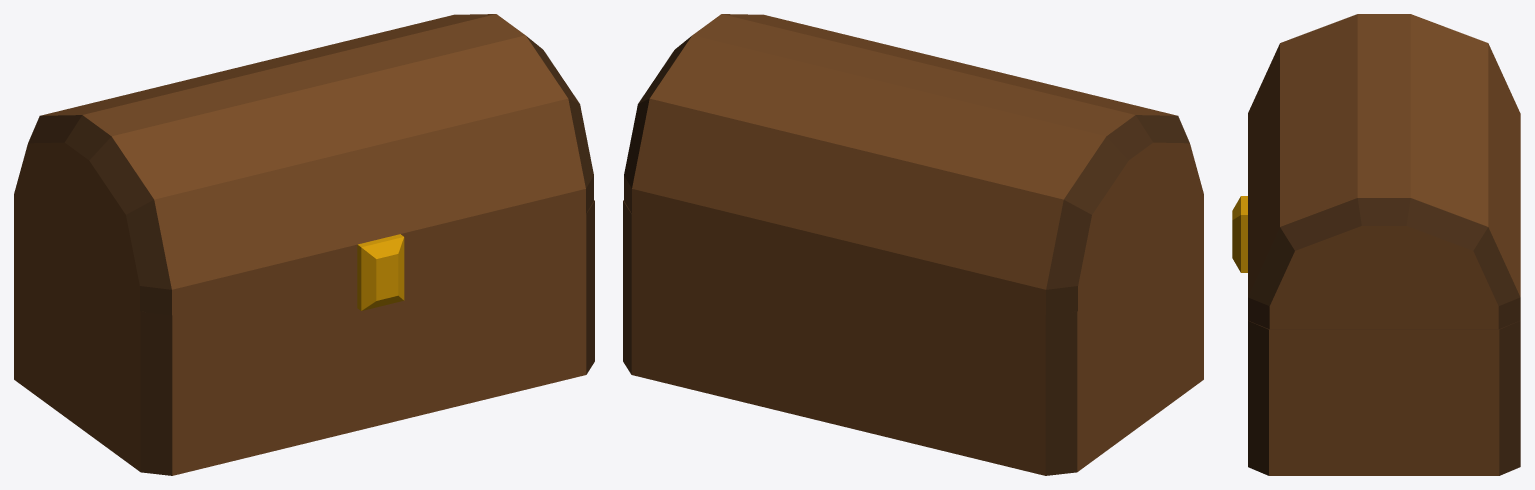
The model's file is Chest.fbx.
The picture shows the model from 3 angles, left to right: view 1: azimuth 30°, elevation 25°; view 2: azimuth 150°, elevation 25°; view 3: azimuth 270°, elevation 25°; orthographic projection. The views are drawn at different scales.
Visible parts, largest first — view 1: Cube.004, Cube.003; view 2: Cube.004, Cube.003; view 3: Cube.004, Cube.003.
Part boxes in pixels (left/top/right/bottom): Cube.004: left=14, top=14, right=593, bottom=315; Cube.003: left=14, top=200, right=594, bottom=475; Cube.004: left=624, top=14, right=1203, bottom=315; Cube.003: left=623, top=200, right=1203, bottom=475; Cube.004: left=1232, top=14, right=1520, bottom=329; Cube.003: left=1248, top=320, right=1520, bottom=475.
Size of the model in its own units: 300 by 187 by 181.
